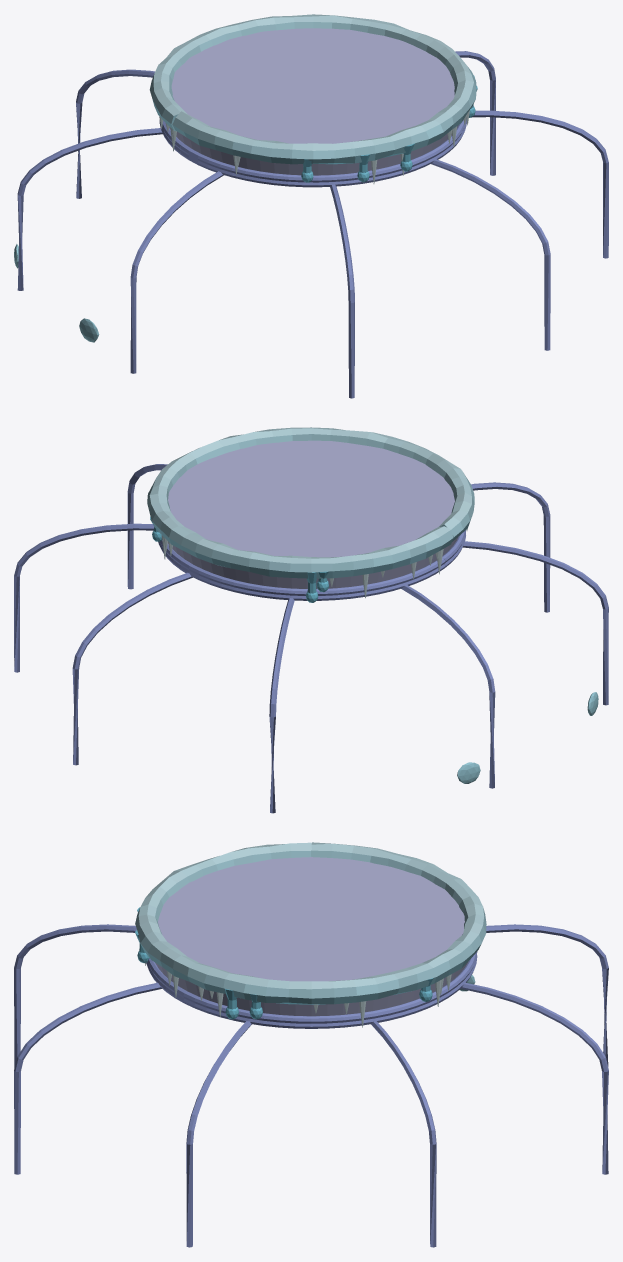
The model's file is goo_jar_trim_1_top@crystal.fbx.
The picture shows the model from 3 angles, top to bottom: view 1: azimuth 30°, elevation 25°; view 2: azimuth 150°, elevation 25°; view 3: azimuth 270°, elevation 25°; orthographic projection. The views are drawn at different scales.
Visible parts, largest first — view 1: goo_jar_trim_1_top; view 2: goo_jar_trim_1_top; view 3: goo_jar_trim_1_top.
Part boxes in pixels (x1,y1,x2,y2): goo_jar_trim_1_top: (14, 14, 608, 398); goo_jar_trim_1_top: (14, 427, 608, 813); goo_jar_trim_1_top: (14, 842, 608, 1247).
Bounding box in the file's own units: 60.32 × 22.69 × 58.31.
